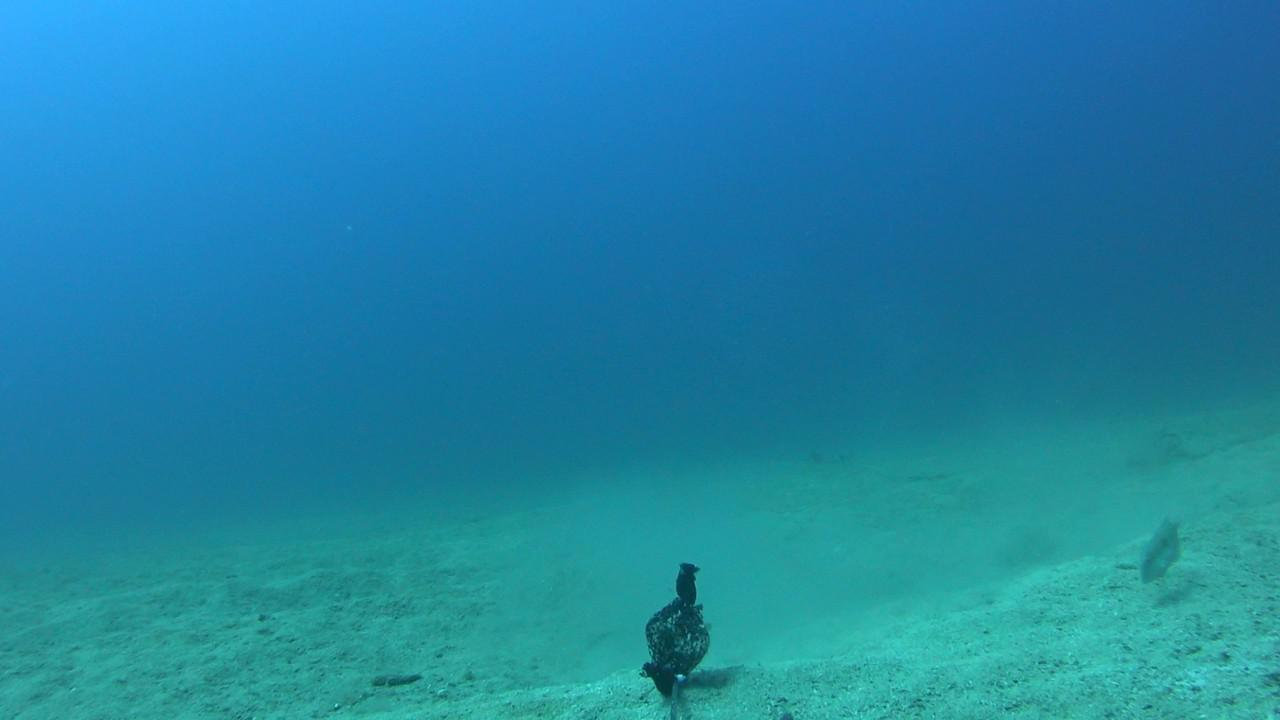myliobatis: (792, 434, 872, 474)
raor: (1142, 516, 1184, 582)
